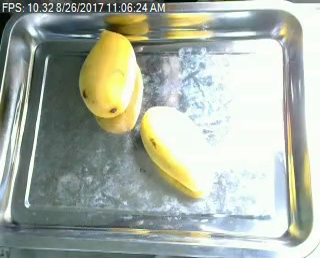Mango: (139, 107, 220, 196), (75, 24, 144, 128)
